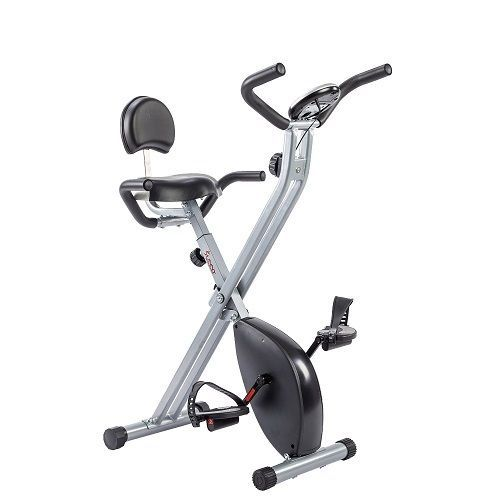gym_bike: (98, 61, 393, 491)
